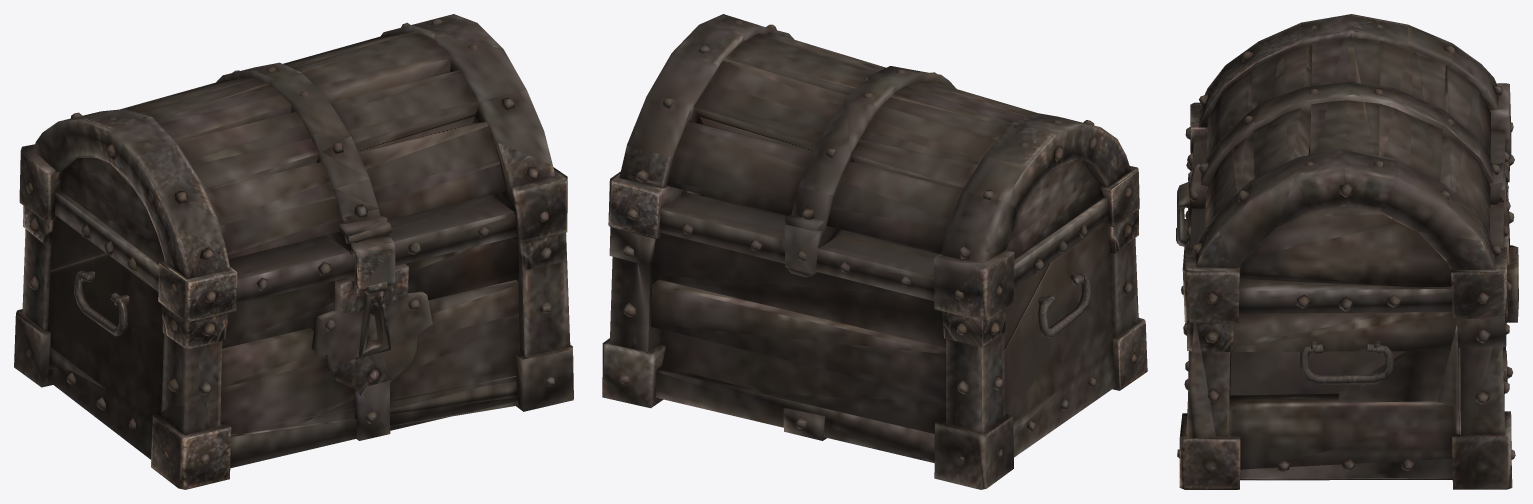
File: d_chest_gold.glb
The picture shows the model from 3 angles, left to right: view 1: azimuth 30°, elevation 25°; view 2: azimuth 150°, elevation 25°; view 3: azimuth 270°, elevation 25°; orthographic projection.
Parts seen in each view (by area): view 1: d_chest_gold, chest_gold_lid; view 2: d_chest_gold, chest_gold_lid; view 3: chest_gold_lid, d_chest_gold.
Part boxes in pixels (bbox=[...]): d_chest_gold: bbox=[14, 151, 573, 489]; chest_gold_lid: bbox=[20, 14, 567, 282]; d_chest_gold: bbox=[602, 169, 1147, 489]; chest_gold_lid: bbox=[608, 14, 1138, 318]; chest_gold_lid: bbox=[1177, 14, 1511, 323]; d_chest_gold: bbox=[1176, 92, 1518, 489].
Size of the model in its own units: 1.67 by 1.3 by 1.29.
Materials: 1 (1 with a texture image).
